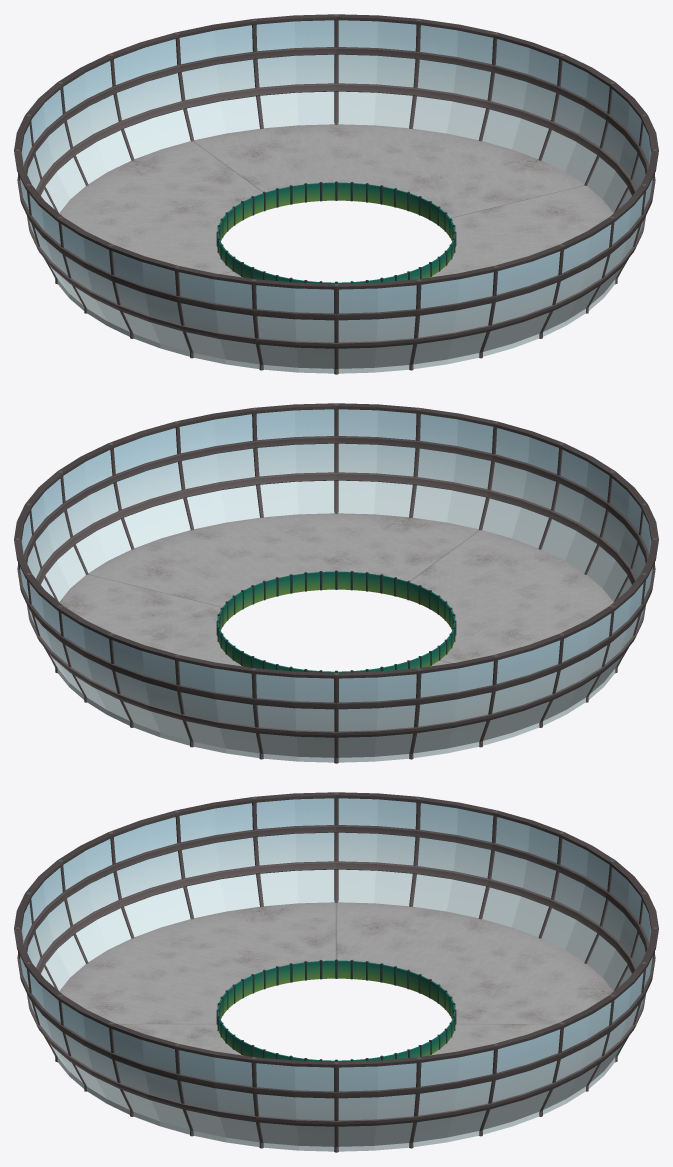
File: stage.fbx
The picture shows the model from 3 angles, top to bottom: view 1: azimuth 30°, elevation 25°; view 2: azimuth 150°, elevation 25°; view 3: azimuth 270°, elevation 25°; orthographic projection.
Parts seen in each view (by area): view 1: kabe (×2), yuka, yoko, tate, bou; view 2: kabe (×2), yuka, yoko, tate, bou; view 3: kabe (×2), yuka, yoko, tate, bou.
Boxes of the visible parts, x1,y1,x2,y2 form: kabe (×2): [20, 20, 652, 373]; yuka: [59, 124, 613, 277]; yoko: [14, 14, 658, 348]; tate: [15, 14, 657, 374]; bou: [216, 181, 456, 283]; kabe (×2): [20, 409, 652, 762]; yuka: [59, 513, 613, 666]; yoko: [14, 403, 658, 737]; tate: [15, 403, 657, 763]; bou: [216, 570, 456, 672]; kabe (×2): [20, 798, 652, 1151]; yuka: [59, 902, 613, 1055]; yoko: [14, 792, 658, 1126]; tate: [15, 792, 657, 1152]; bou: [216, 959, 456, 1061].
Bounding box in the file's own units: 7240 × 1256 × 7240.
